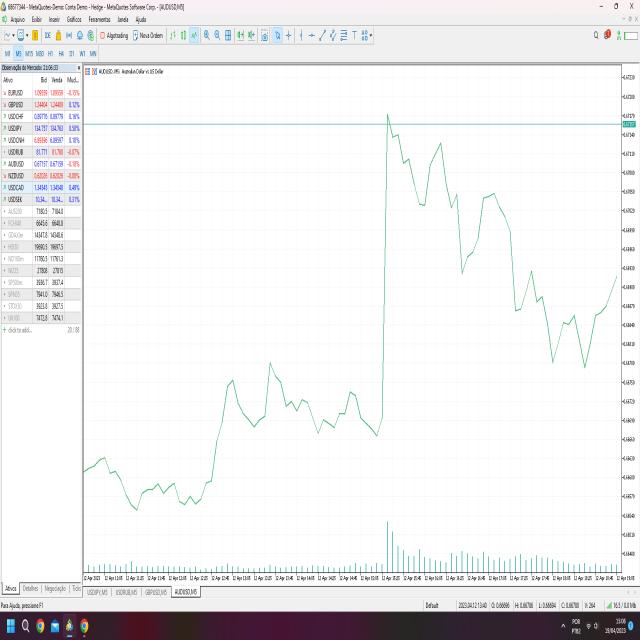fundo_duplo: (537, 284, 609, 388)
